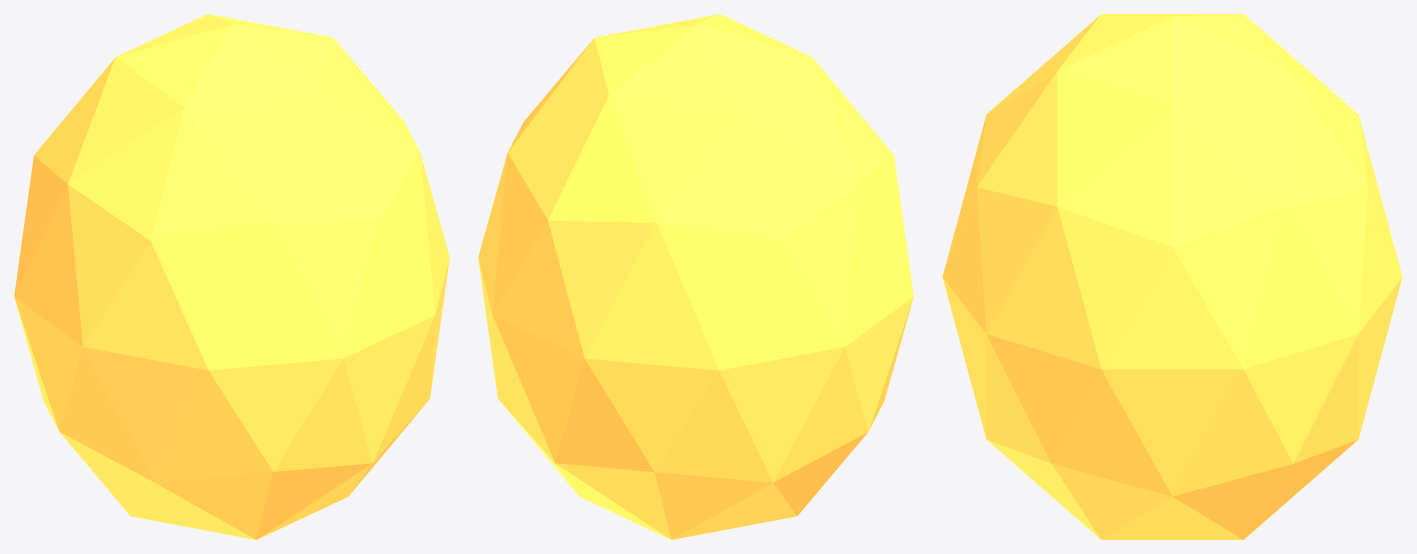
File: proj_fire.glb
3 renders of one model, left to right at view 1: azimuth 30°, elevation 25°; view 2: azimuth 150°, elevation 25°; view 3: azimuth 270°, elevation 25°, orthographic. The views are drawn at different scales.
Parts seen in each view (by area): view 1: proj_fire; view 2: proj_fire; view 3: proj_fire.
Boxes of the visible parts, x1,y1,x2,y2 form: proj_fire: (14, 14, 449, 539); proj_fire: (478, 14, 913, 539); proj_fire: (942, 14, 1402, 539).
Bounding box in the file's own units: 0.4755 × 0.625 × 0.5.
